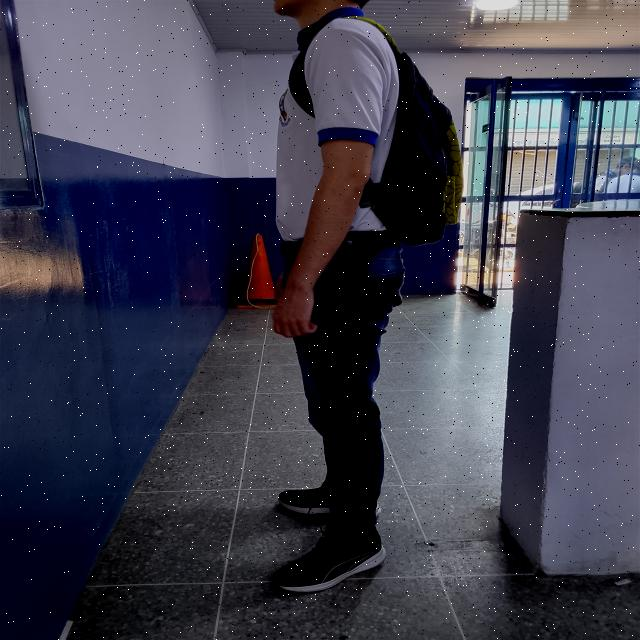pantalon_oscuro: (279, 246, 407, 544)
uniforme_superior: (275, 7, 400, 242)
